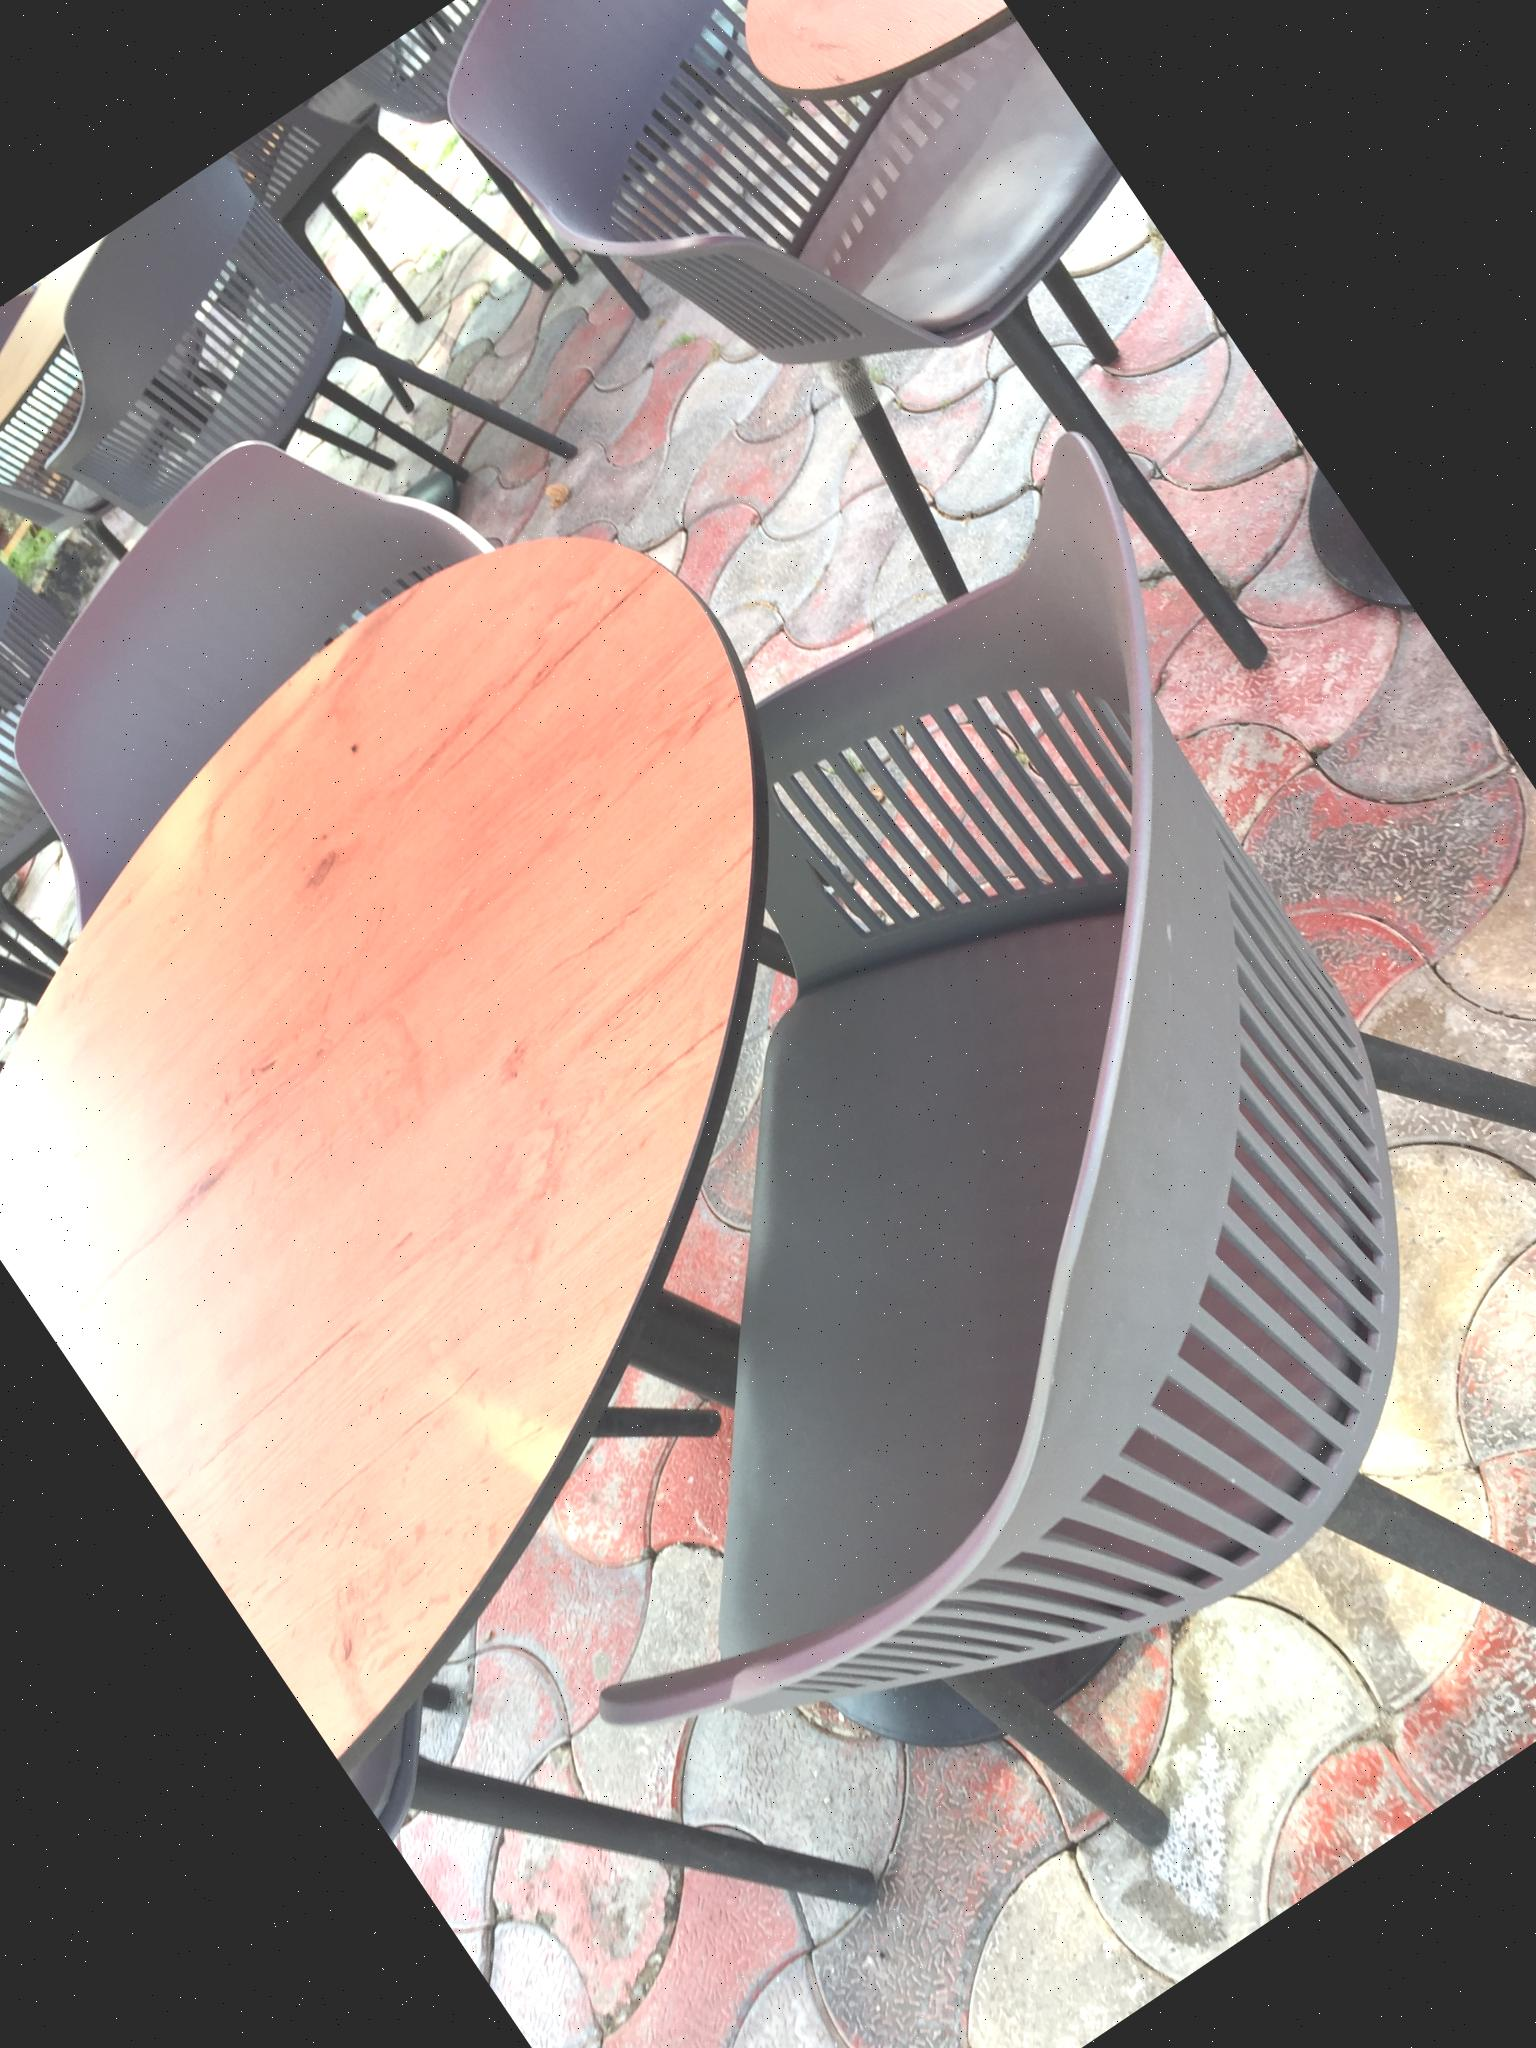chair: (148, 418, 1536, 2048), (394, 0, 1392, 874), (0, 82, 582, 706), (0, 352, 545, 930), (0, 474, 232, 1055)
